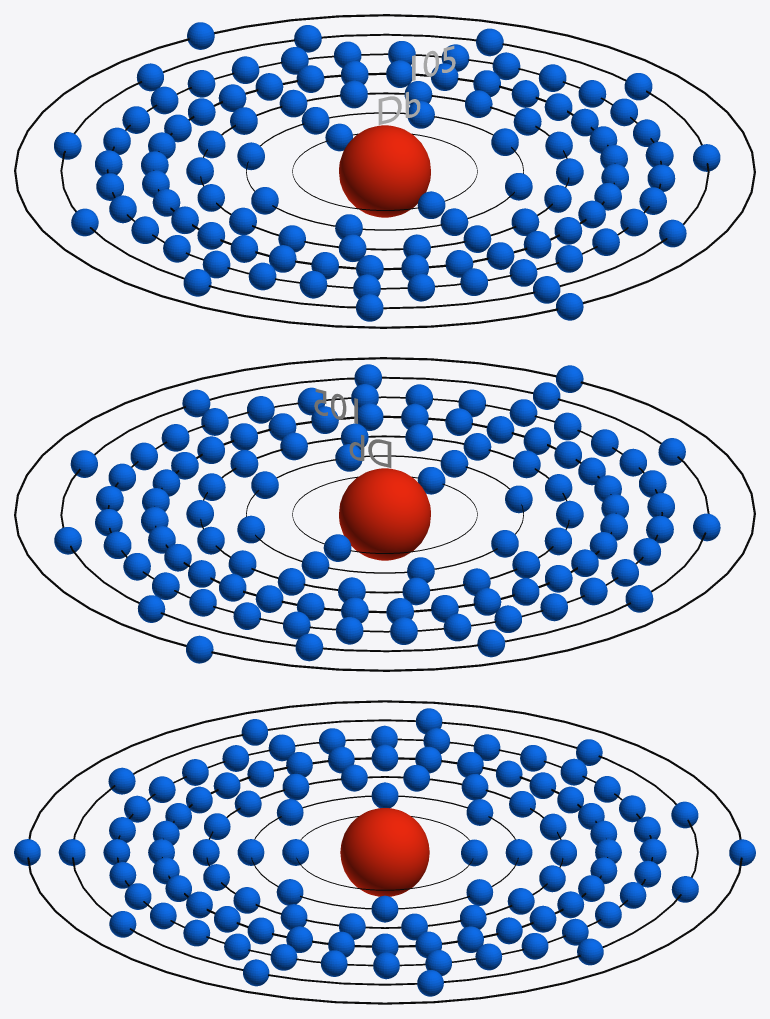
3 renders of one model, top to bottom at view 1: azimuth 30°, elevation 25°; view 2: azimuth 150°, elevation 25°; view 3: azimuth 270°, elevation 25°, orthographic. The views are drawn at different scales.
Visible parts, largest first — view 1: Db5, Db4, Db3, Db6, Proton, Db2, n7, n6, Db7, n5, Db1, n3 (+3 smaller); view 2: Db5, Db4, Db3, Db6, Proton, Db2, n7, n6, n5, Db7, Db1, n3 (+3 smaller); view 3: Db5, Db4, Db3, Db6, Proton, Db2, n7, n6, n5, Db1, Db7, n3 (+2 smaller).
Part boxes in pixels (x1,y1,x2,y2): Db5: (95,41,675,301); Db4: (141,60,628,280); Db3: (186,80,583,261); Db6: (54,25,720,321); Proton: (339,125,430,217); Db2: (237,101,532,239); n7: (14,14,755,328); n6: (60,33,709,309); Db7: (187,22,583,320); n5: (106,53,661,289); Db1: (325,123,445,218); n3: (200,92,569,250); Db5: (95,384,674,644); Db4: (141,403,628,623); Db3: (186,423,583,605); Db6: (54,364,720,661); Proton: (339,468,430,560); Db2: (237,444,532,582); n7: (14,357,755,671); n6: (60,376,709,652); n5: (107,396,663,632); Db7: (186,365,583,663); Db1: (323,467,445,561); n3: (200,435,569,593); Db5: (103,725,666,979); Db4: (148,744,621,957); Db3: (193,764,576,940); Db6: (58,708,698,996); Proton: (340,808,429,896); Db2: (237,782,532,922); n7: (27,700,742,1004); n6: (72,719,698,985); n5: (117,738,652,966); Db1: (282,839,487,866); Db7: (14,839,755,865); n3: (206,776,563,928).
Size of the model in its own units: 802 by 180 by 830.
